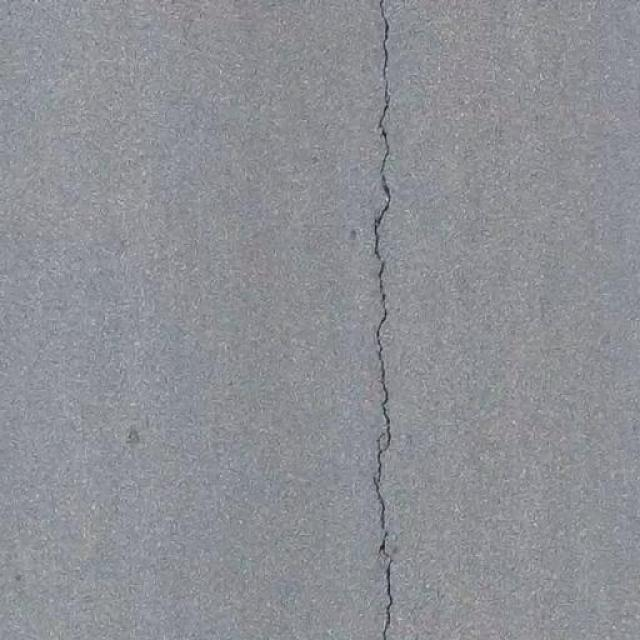Crack: (350, 6, 404, 640)
